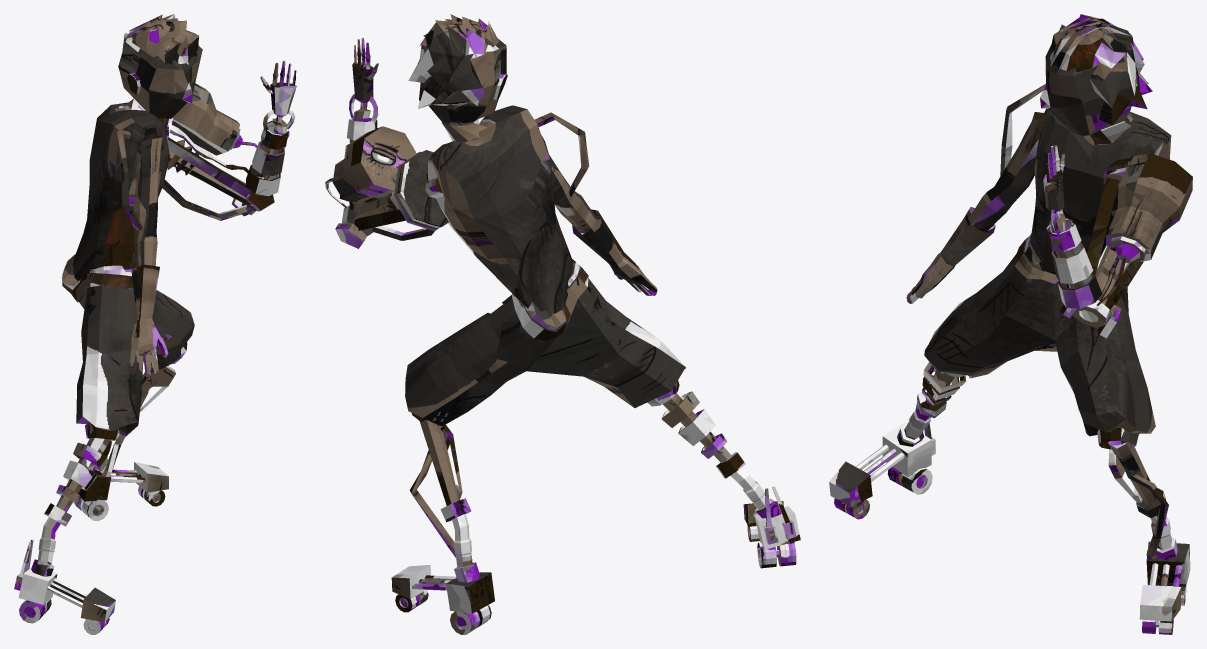
The model's file is CyborgFINALAnimation_000049.obj.
The picture shows the model from 3 angles, left to right: view 1: azimuth 30°, elevation 25°; view 2: azimuth 150°, elevation 25°; view 3: azimuth 270°, elevation 25°; orthographic projection. The views are drawn at different scales.
Visible parts, largest first — view 1: CyborgMesh_Cube.002; view 2: CyborgMesh_Cube.002; view 3: CyborgMesh_Cube.002.
Boxes of the visible parts, x1,y1,x2,y2 form: CyborgMesh_Cube.002: (14, 14, 296, 634); CyborgMesh_Cube.002: (325, 14, 800, 634); CyborgMesh_Cube.002: (829, 14, 1192, 634).
Bounding box in the file's own units: 6.02 × 8.66 × 4.7.
